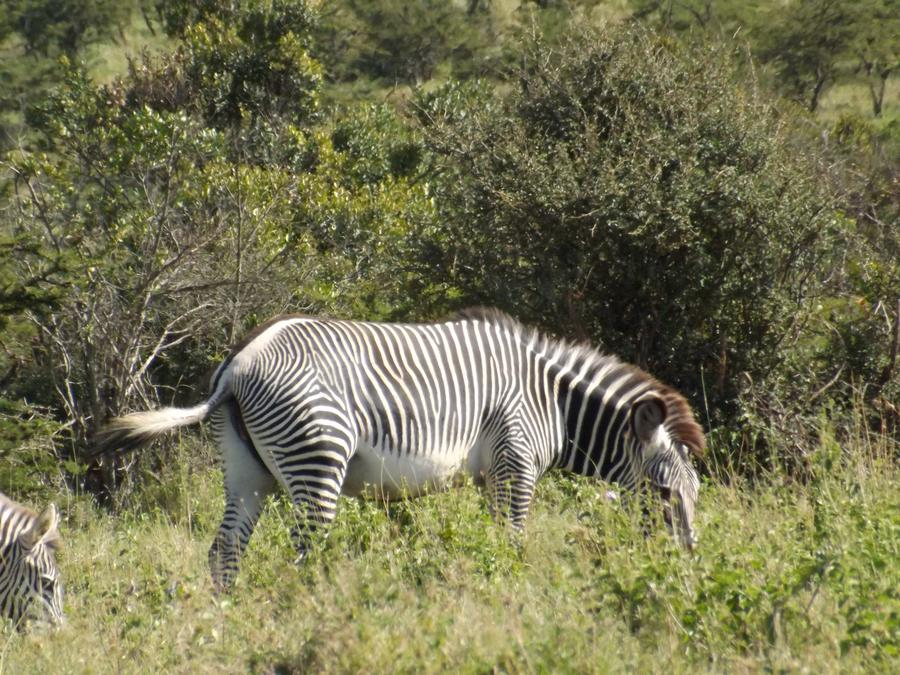zebra_grevys: (204, 305, 551, 483)
